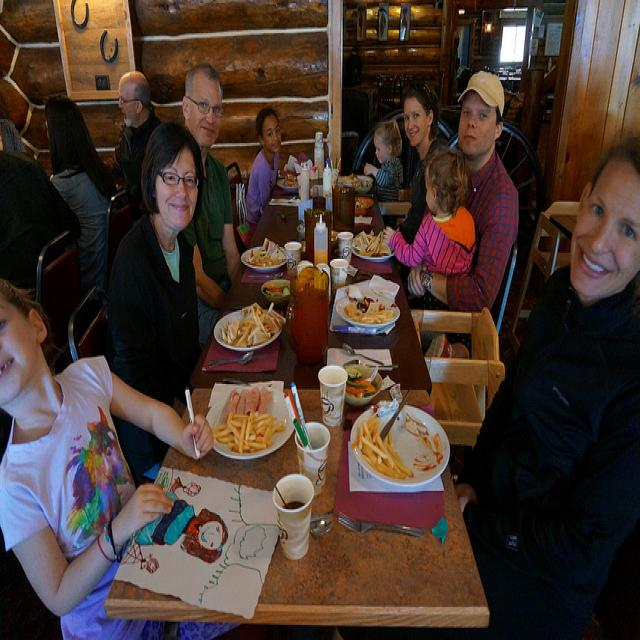chair: (414, 304, 507, 452), (34, 232, 85, 366), (0, 539, 60, 640), (70, 279, 104, 361), (491, 244, 521, 336), (225, 161, 247, 256)
dining table: (105, 388, 491, 620)
